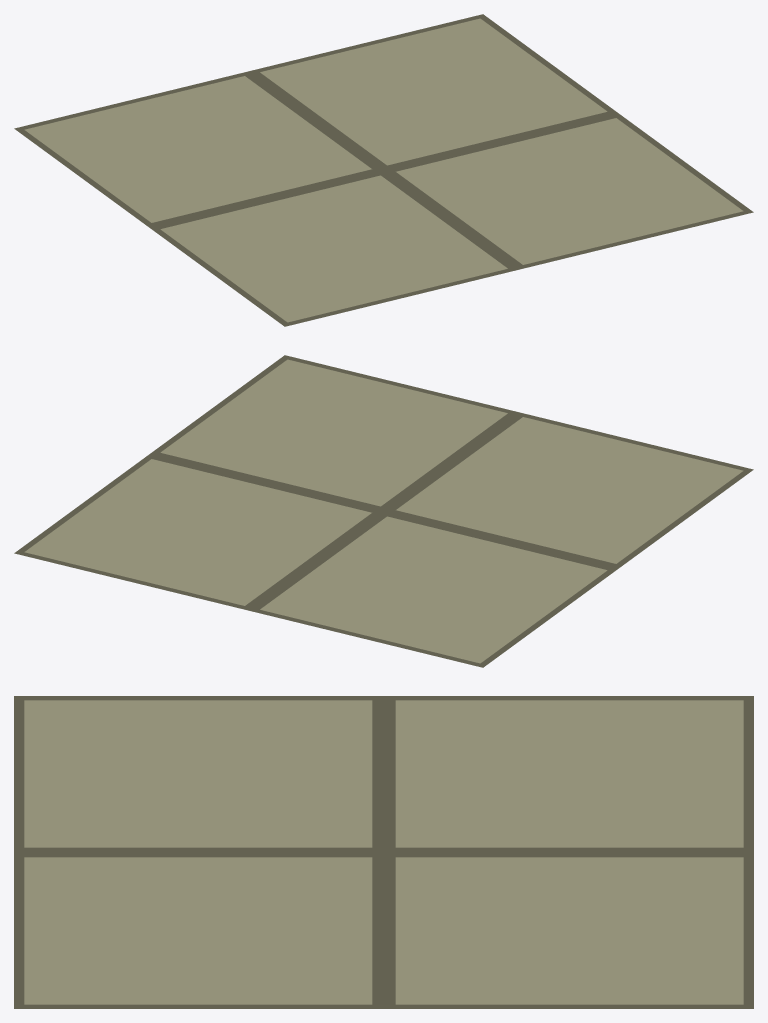
File: SO_Floor_01.fbx
3 views of the same model, one above another, from view 1: azimuth 30°, elevation 25°; view 2: azimuth 150°, elevation 25°; view 3: azimuth 270°, elevation 25° (orthographic). The views are drawn at different scales.
Visible parts, largest first — view 1: SO_Floor_01; view 2: SO_Floor_01; view 3: SO_Floor_01.
Part boxes in pixels (x1=…): SO_Floor_01: x1=14, y1=14, x2=753, y2=326; SO_Floor_01: x1=14, y1=355, x2=753, y2=667; SO_Floor_01: x1=14, y1=696, x2=753, y2=1008.
Size of the model in its own units: 5 by 0 by 5.
